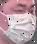with_mask: (1, 2, 37, 44)
